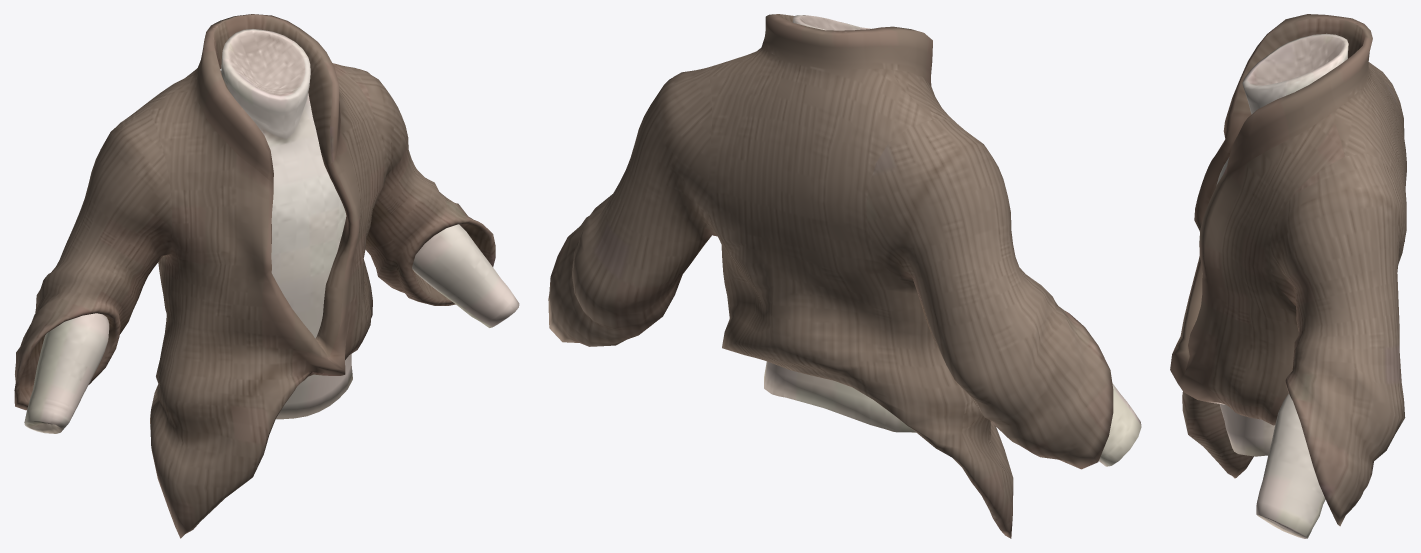
File: body6.glb
3 renders of one model, left to right at view 1: azimuth 30°, elevation 25°; view 2: azimuth 150°, elevation 25°; view 3: azimuth 270°, elevation 25°, orthographic. The views are drawn at different scales.
Visible parts, largest first — view 1: Wolf3D_Outfit_Top; view 2: Wolf3D_Outfit_Top; view 3: Wolf3D_Outfit_Top.
Boxes of the visible parts, x1,y1,x2,y2 form: Wolf3D_Outfit_Top: (14, 14, 519, 538); Wolf3D_Outfit_Top: (548, 14, 1141, 538); Wolf3D_Outfit_Top: (1170, 14, 1406, 538).
Bounding box in the file's own units: 0.9512 × 0.8427 × 0.3582.
1 material, 1 textured.
